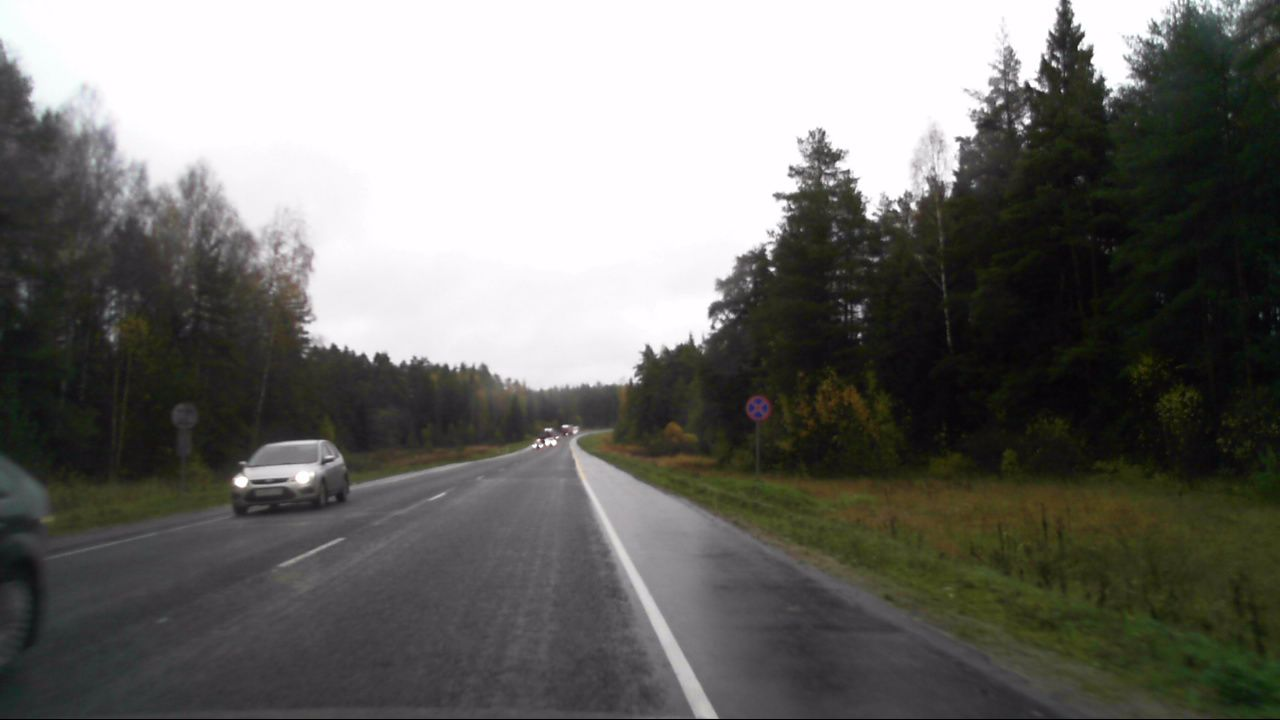No Parking: (746, 396, 770, 424)
